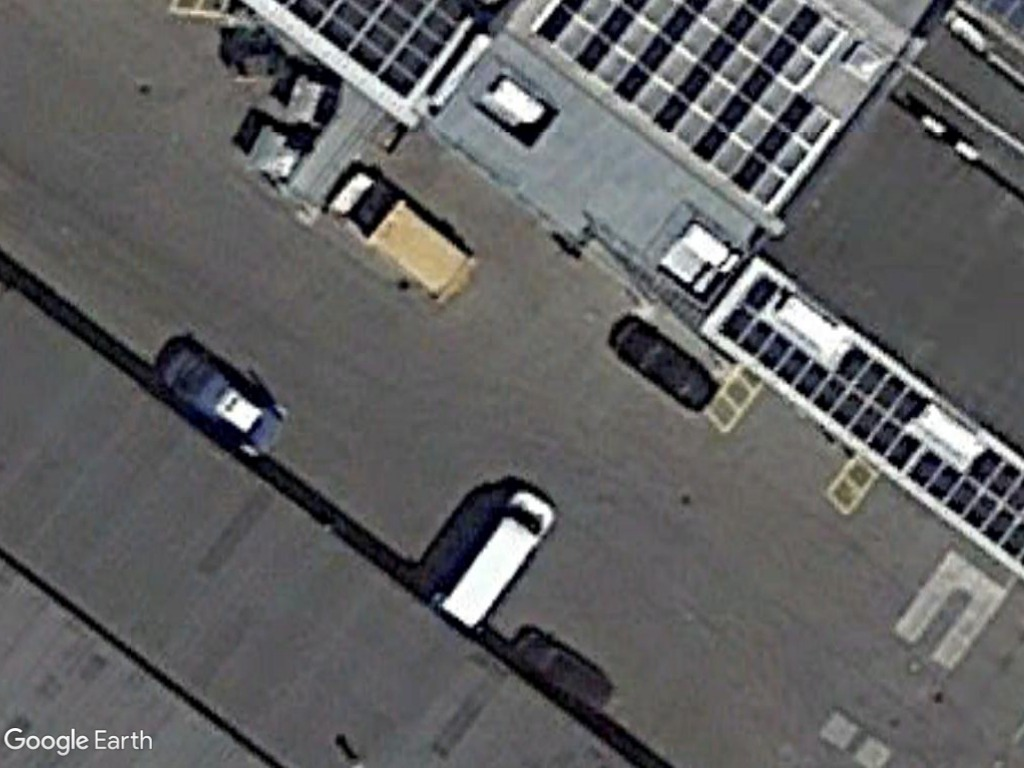car: (156, 333, 289, 458)
other: (321, 165, 479, 308)
van: (435, 491, 558, 633)
